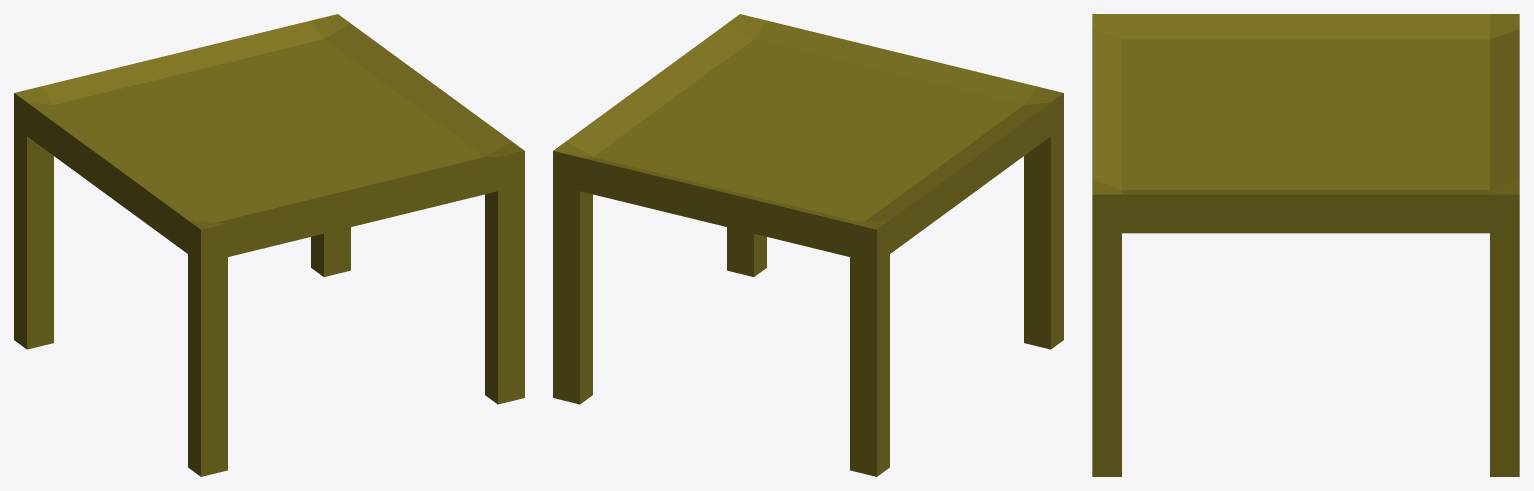
File: TableBasse.fbx
The picture shows the model from 3 angles, left to right: view 1: azimuth 30°, elevation 25°; view 2: azimuth 150°, elevation 25°; view 3: azimuth 270°, elevation 25°; orthographic projection. The views are drawn at different scales.
Parts seen in each view (by area): view 1: Table Basse; view 2: Table Basse; view 3: Table Basse.
Part boxes in pixels (x1=…): Table Basse: x1=14, y1=14, x2=524, y2=476; Table Basse: x1=553, y1=14, x2=1063, y2=476; Table Basse: x1=1092, y1=14, x2=1519, y2=476.
Bounding box in the file's own units: 80 × 58.35 × 80.
